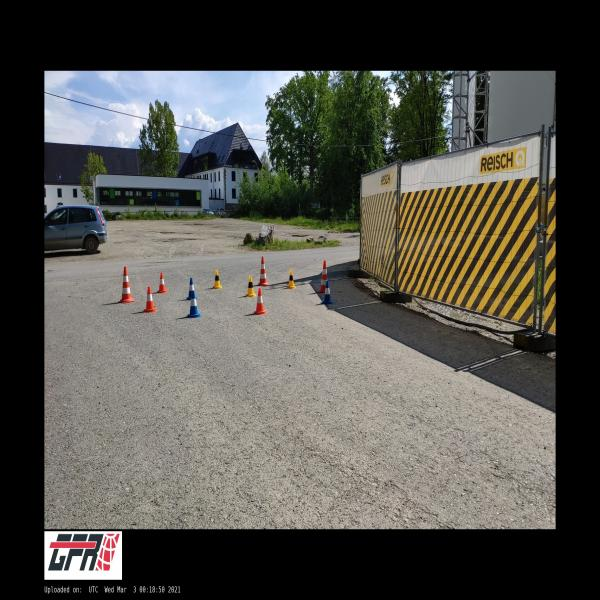blue_cone: (186, 290, 202, 318), (321, 281, 334, 304), (186, 278, 198, 300)
large_orange_cone: (119, 266, 135, 303), (318, 261, 329, 293), (258, 257, 268, 286)
orange_cone: (143, 286, 157, 312), (254, 288, 267, 315), (157, 273, 168, 293)
yellow_cone: (245, 276, 256, 296), (213, 270, 222, 288), (288, 270, 296, 289)
